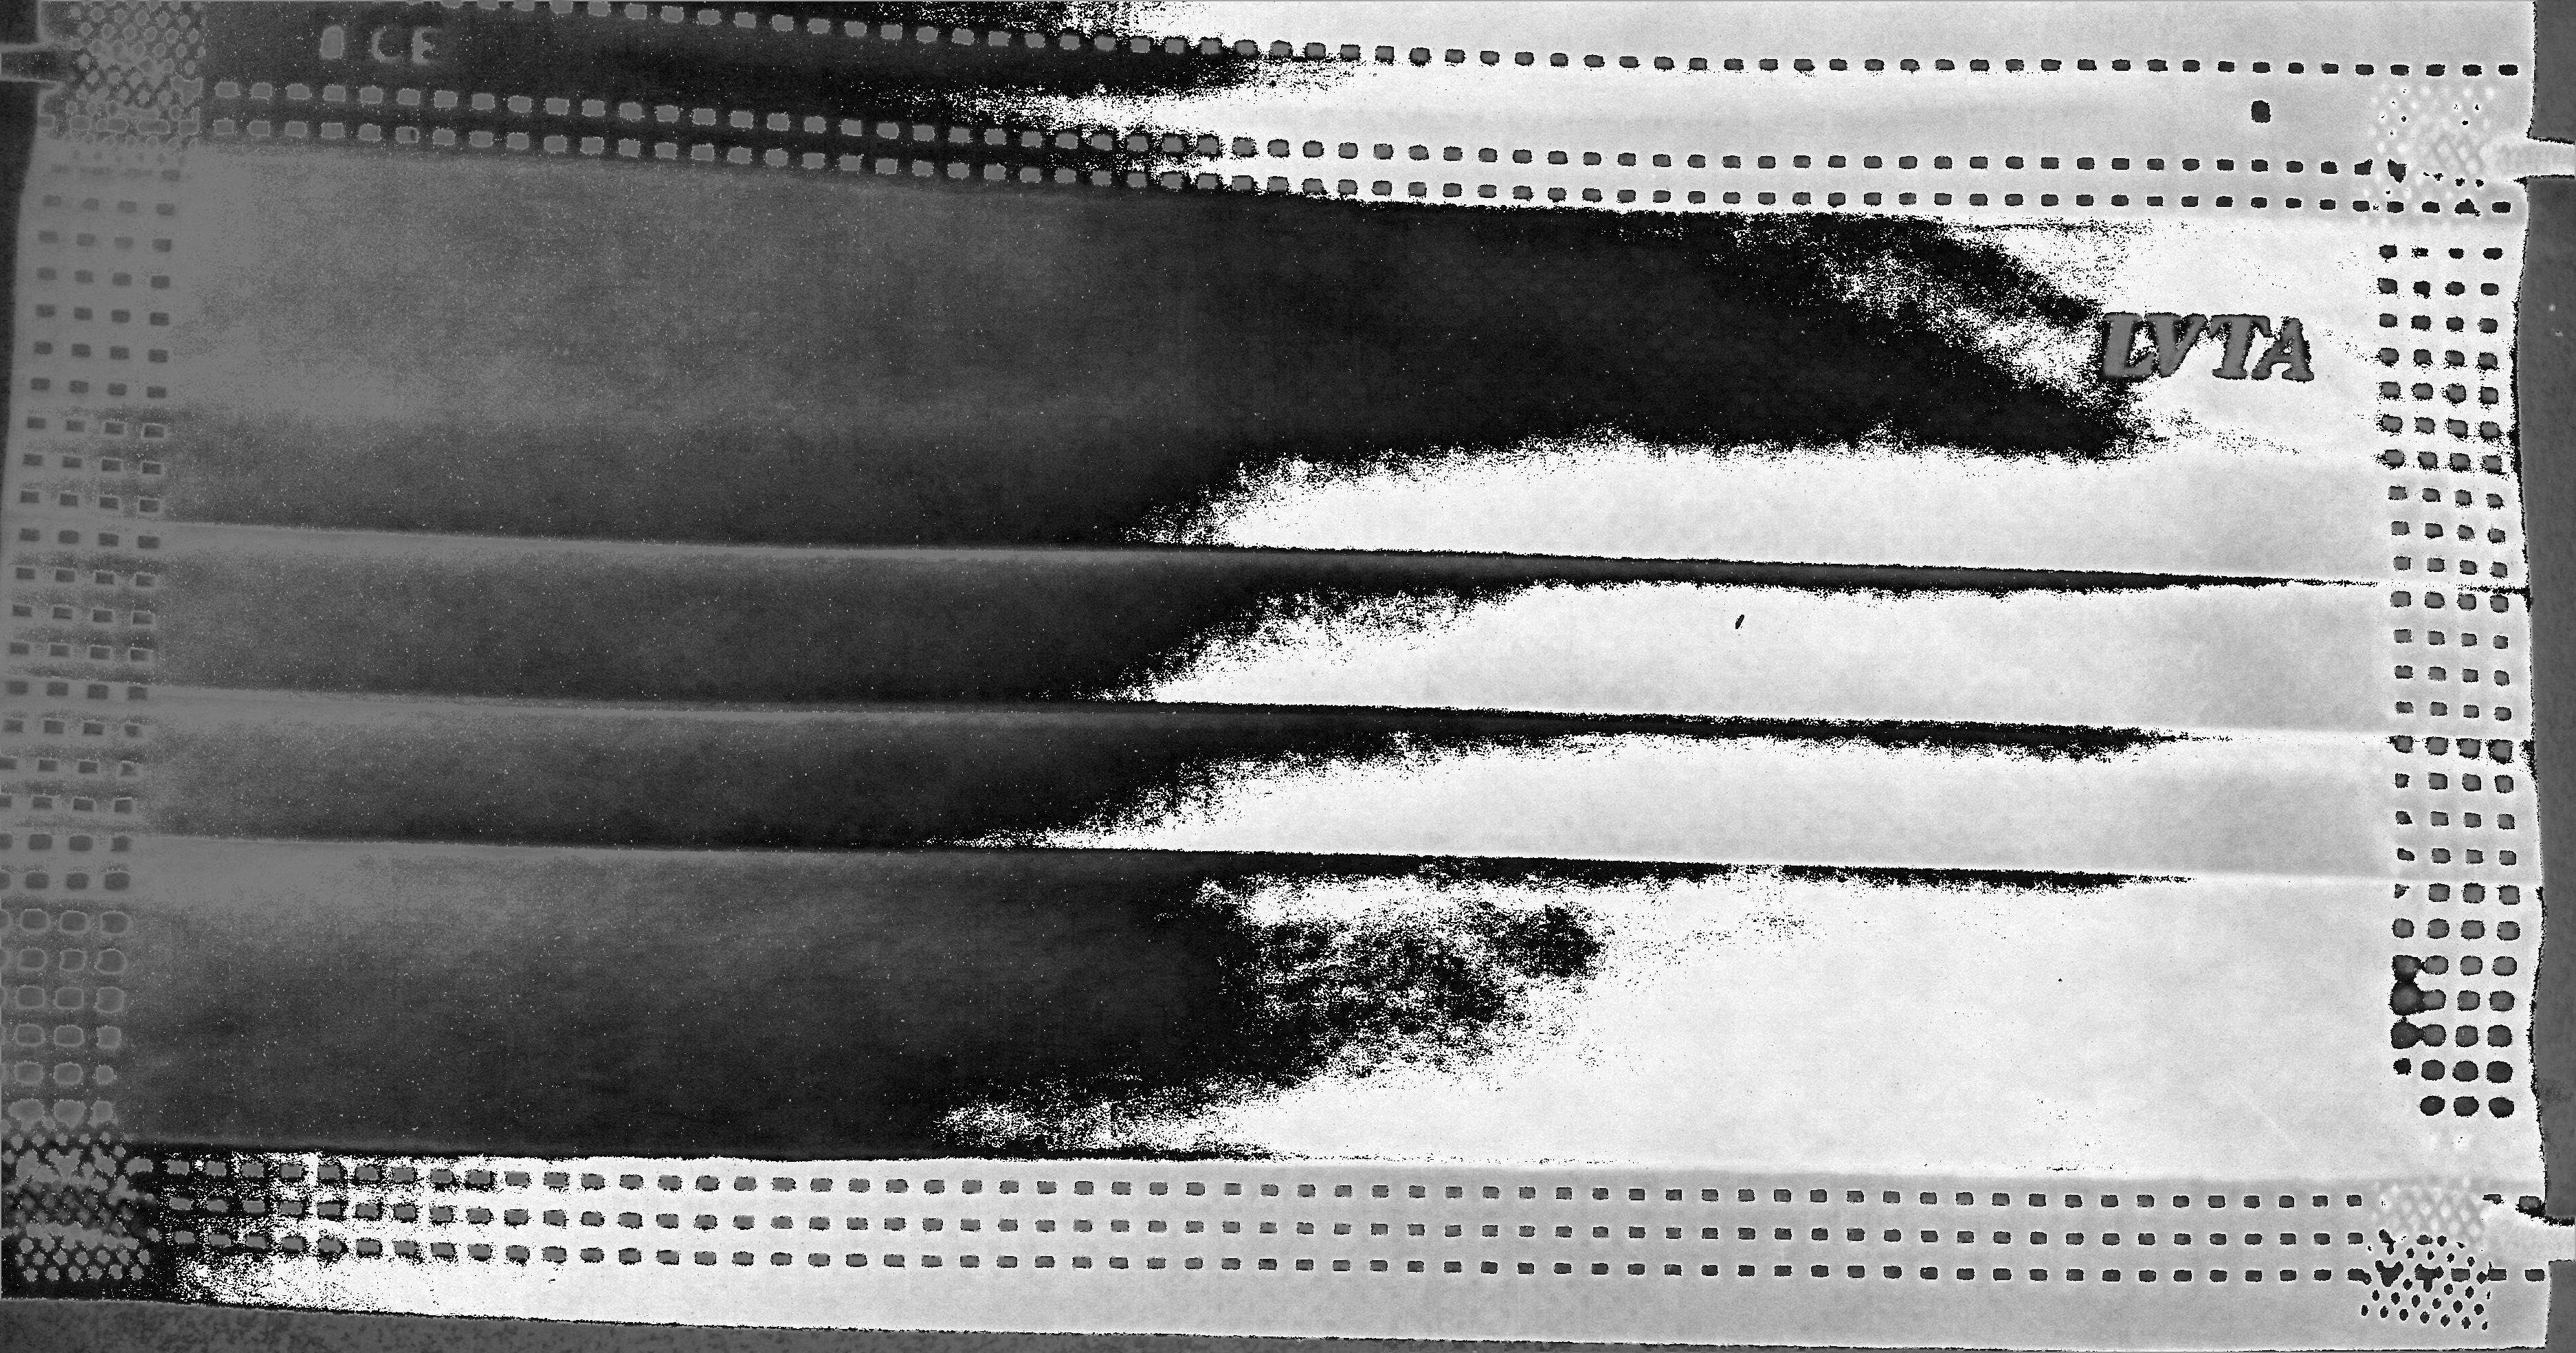High GSM: (627, 170, 2368, 1152)
